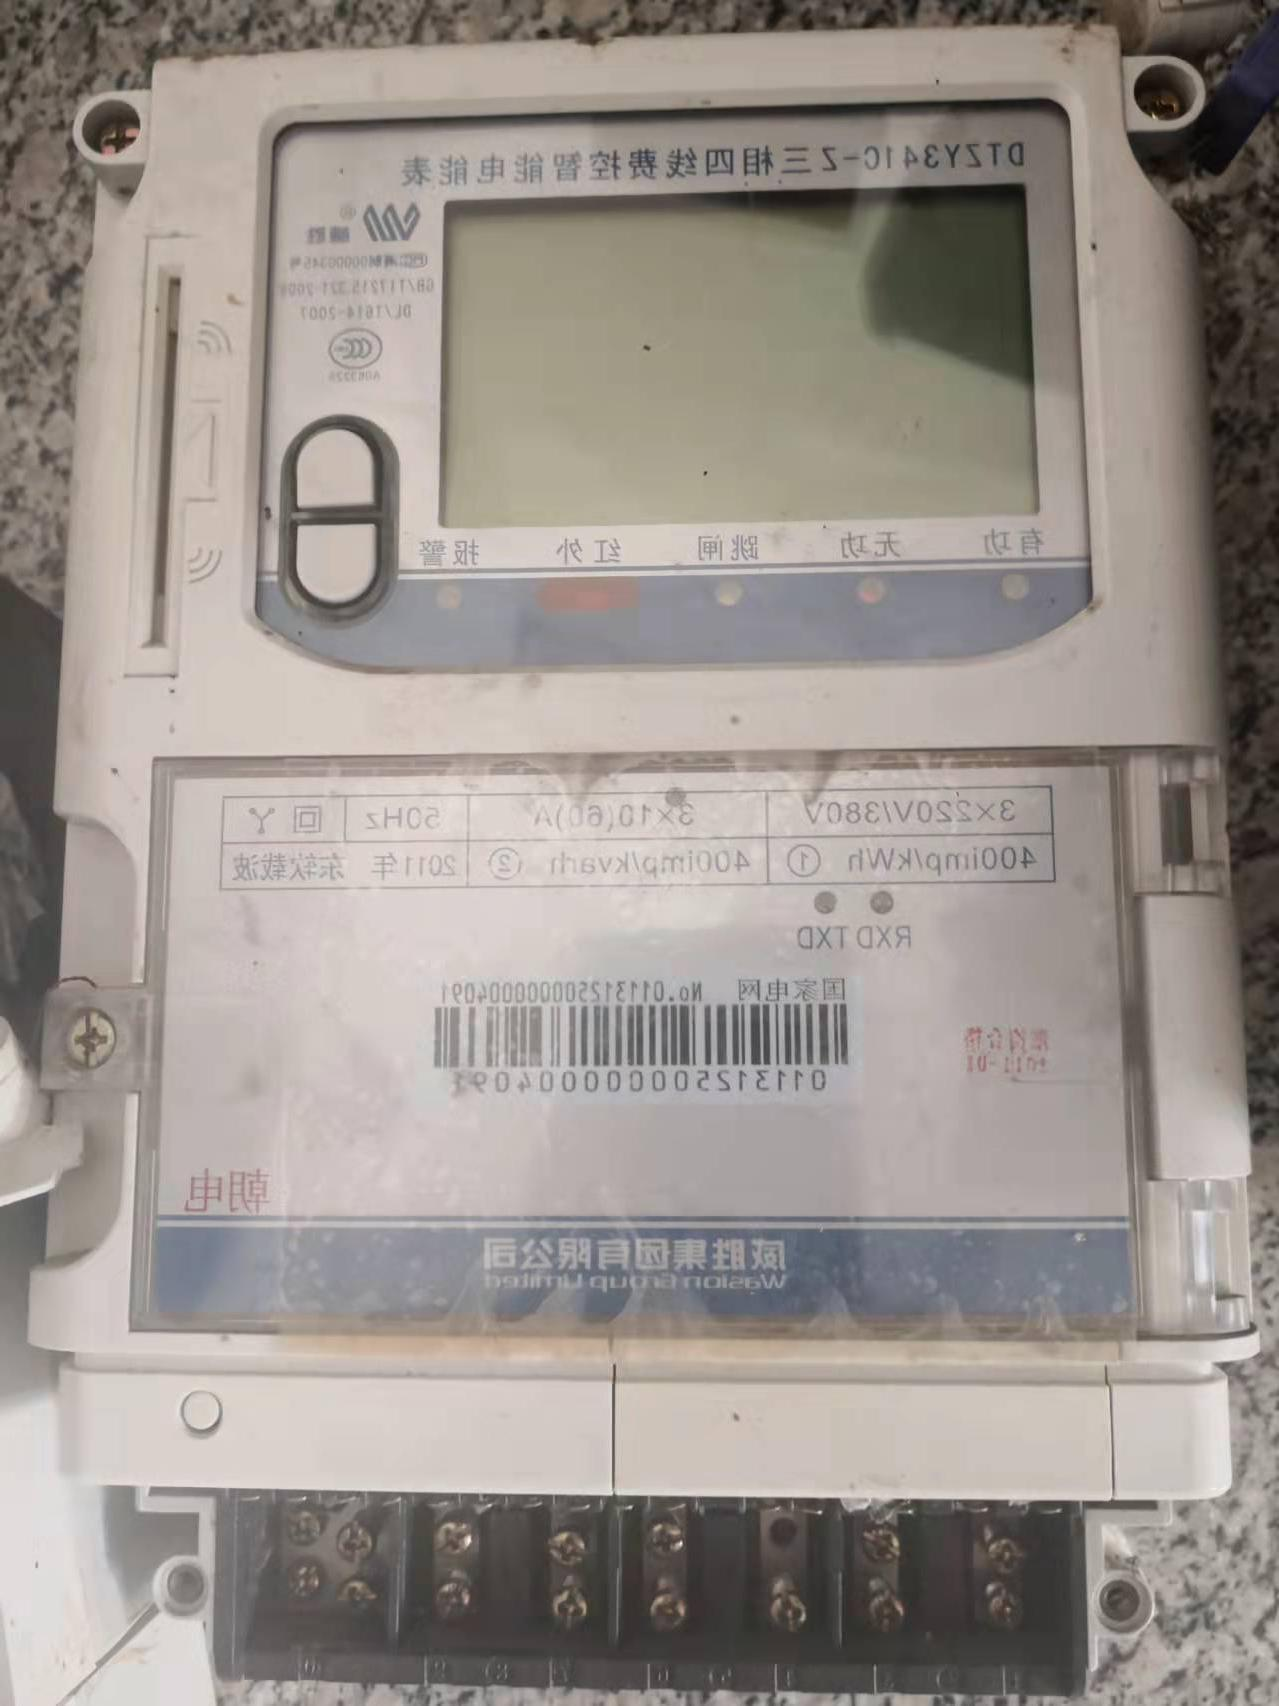digital: (48, 21, 1258, 1359)
